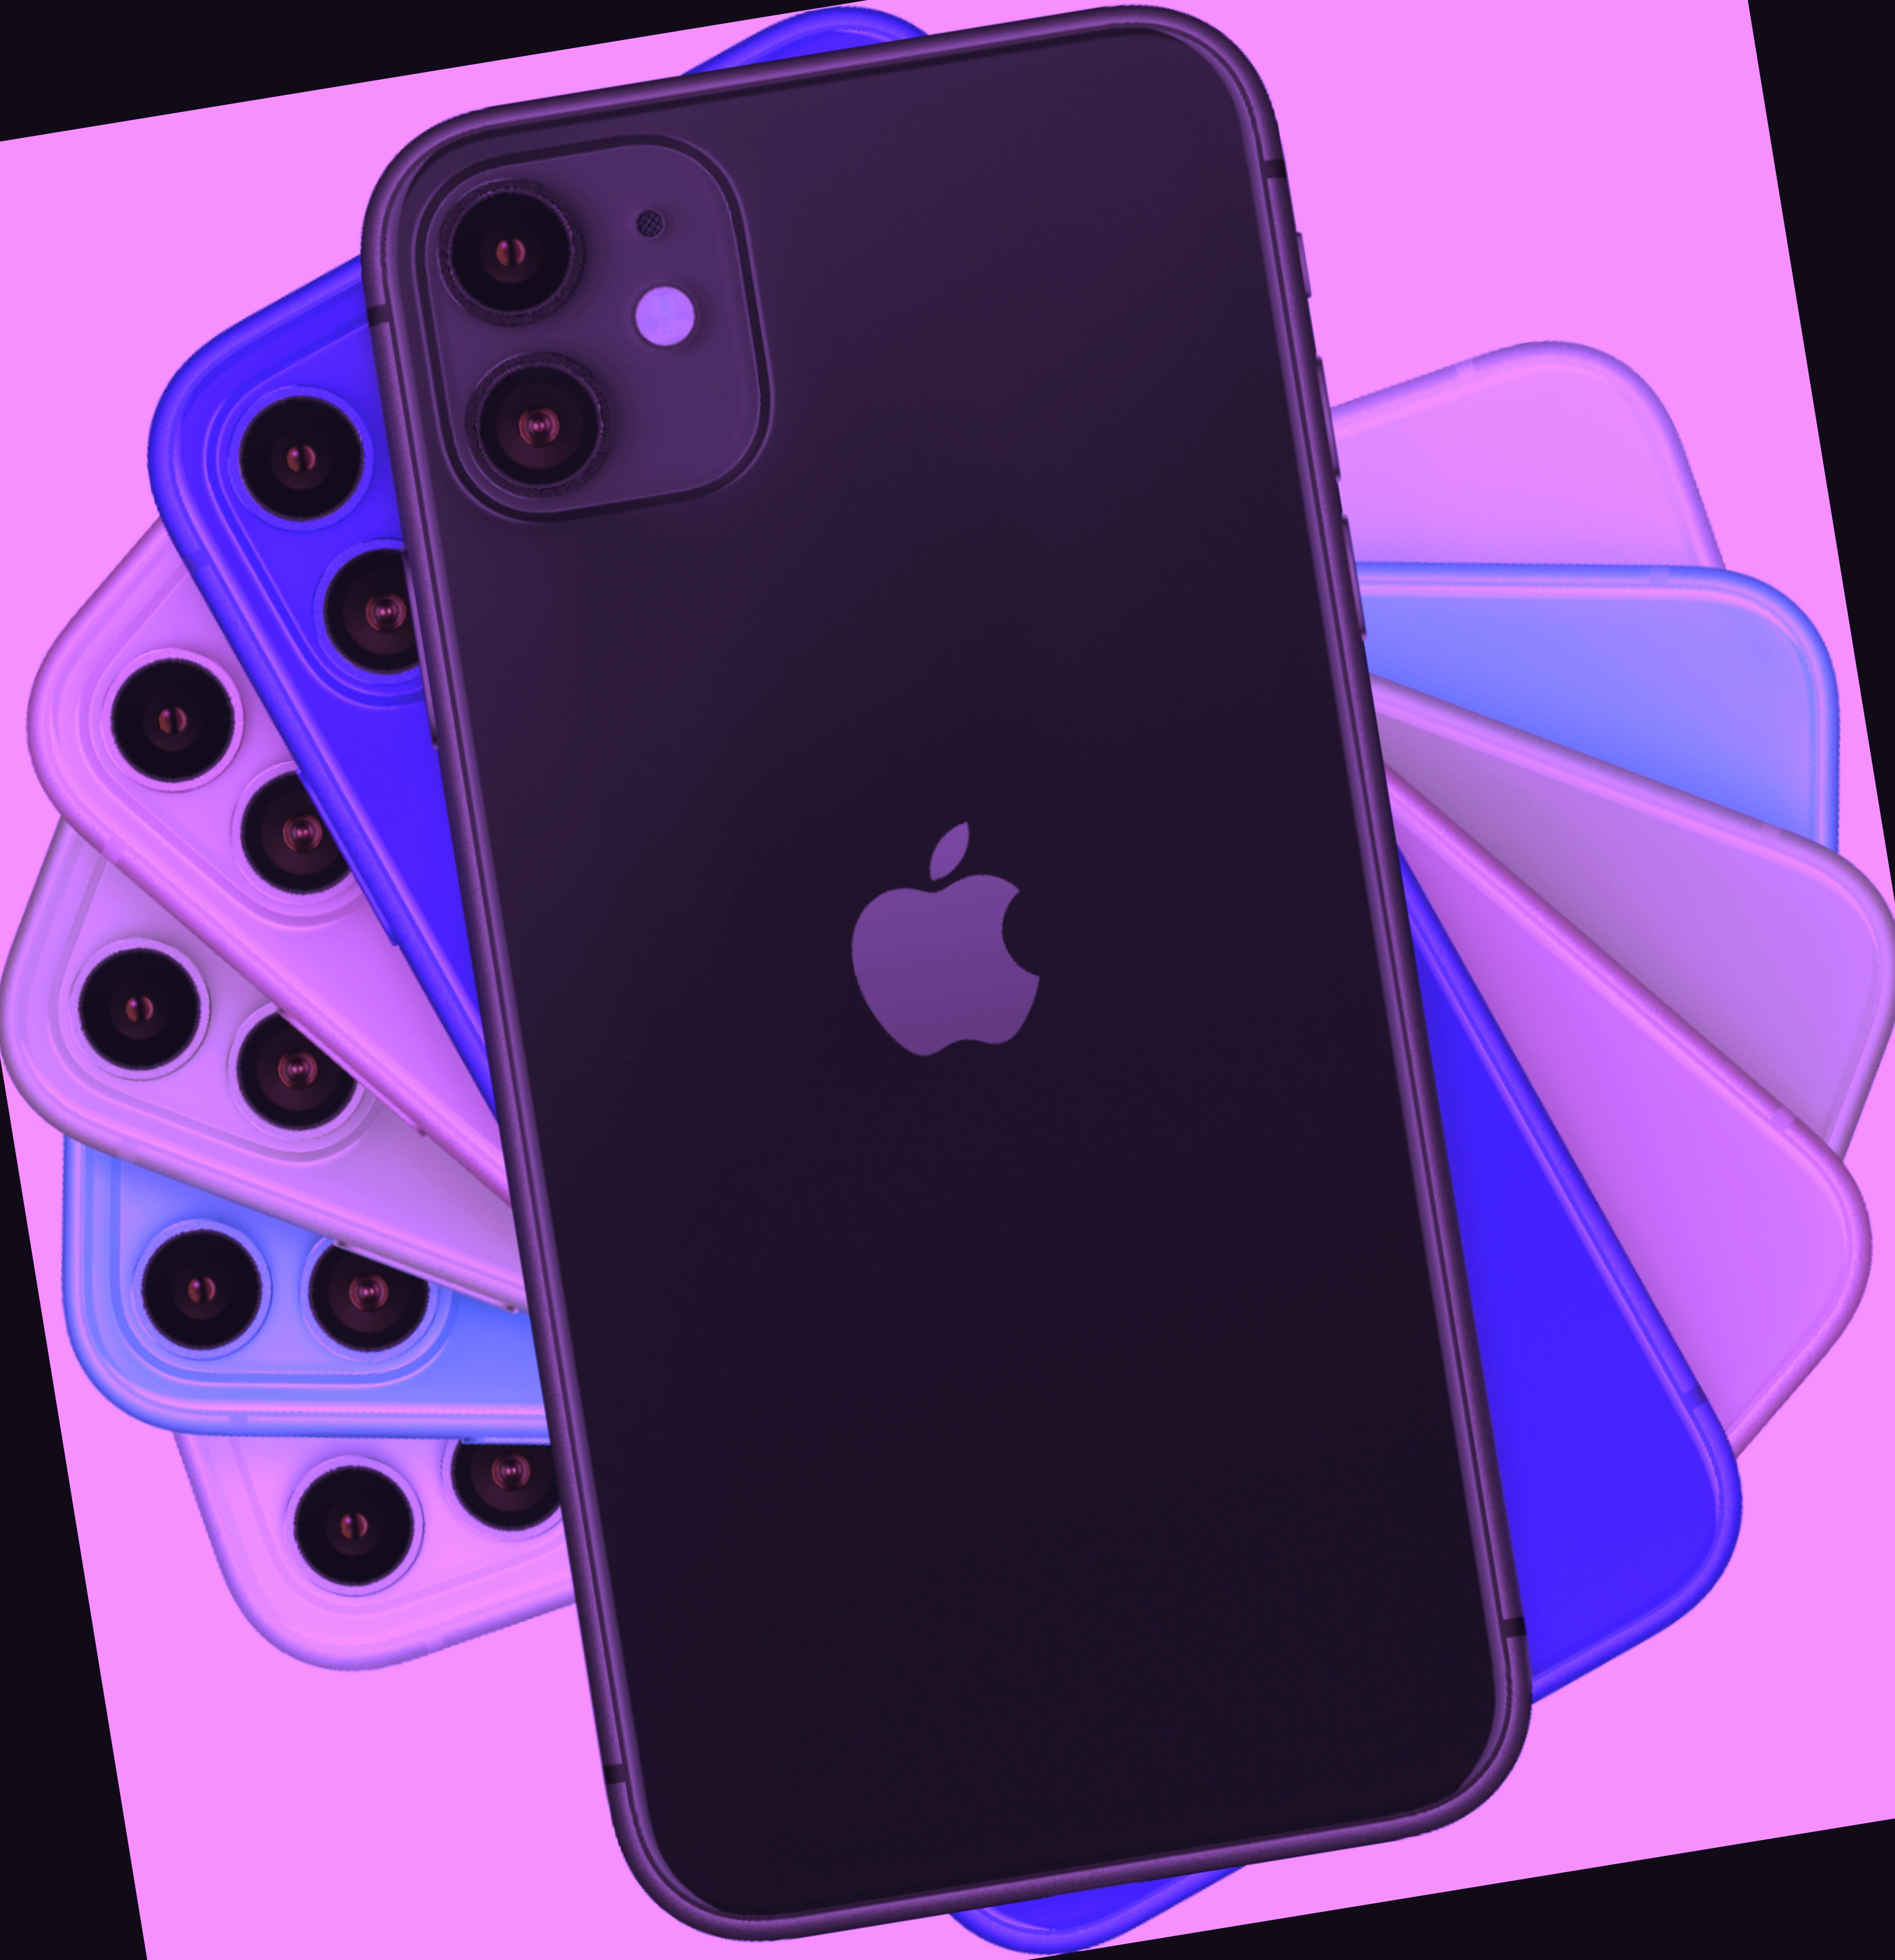iphone: (413, 45, 1477, 1960)
